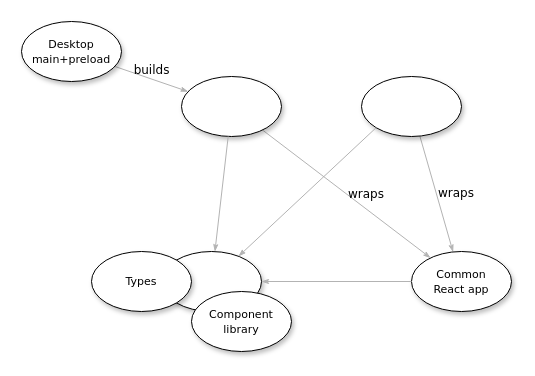
The diagram is 535 pixels wide and 376 high, and some of its shapes have lost their labels. Each missing label, with the centre of its shape:
"Desktop UI (React)" goes at pixel 232 108.
"Web App" goes at pixel 412 108.
